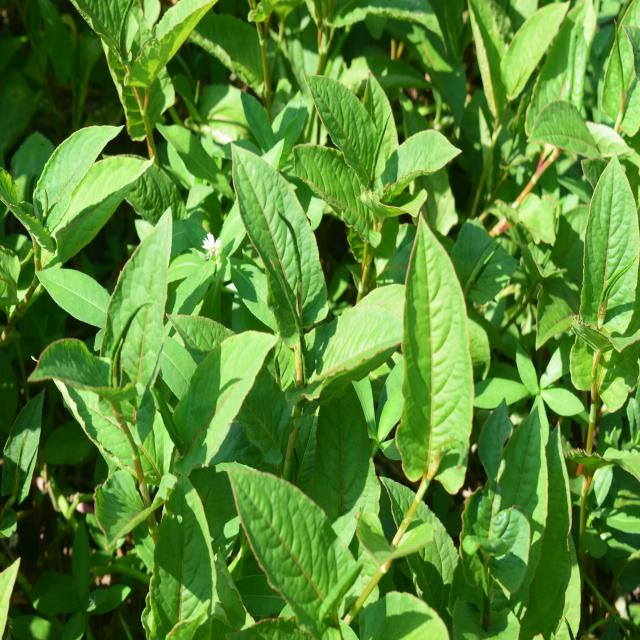Chinese_knotweed: (286, 36, 436, 247)
